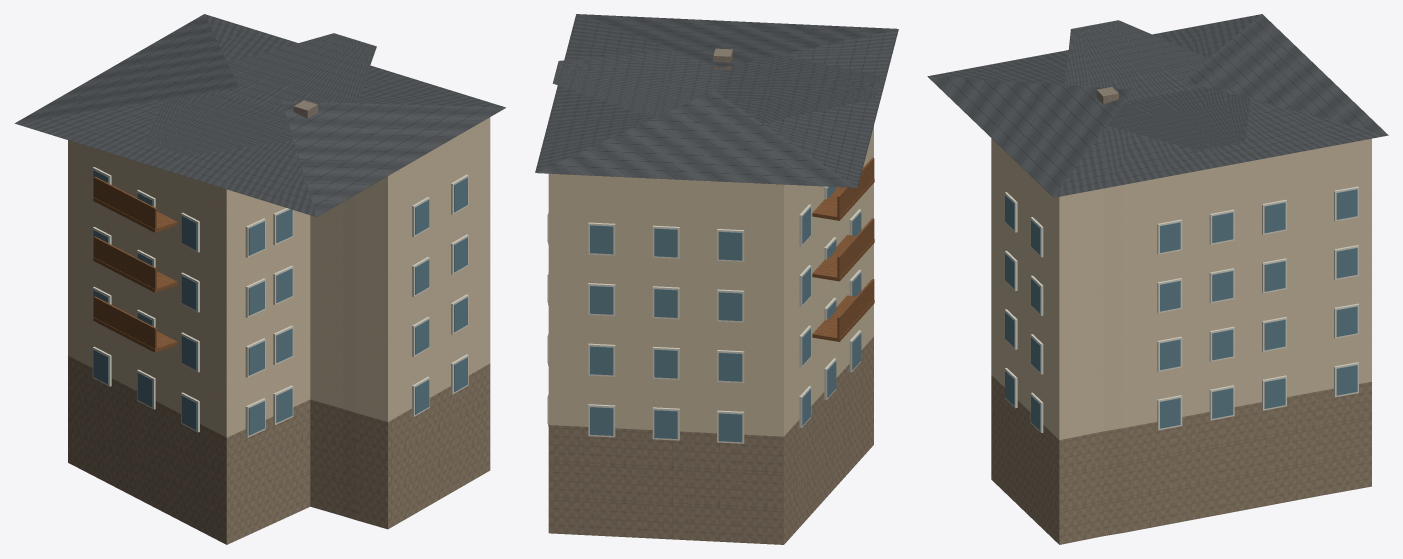
File: core_0114.gltf
The picture shows the model from 3 angles, left to right: view 1: azimuth 30°, elevation 25°; view 2: azimuth 150°, elevation 25°; view 3: azimuth 270°, elevation 25°; orthographic projection. The views are drawn at different scales.
Visible parts, largest first — view 1: core_0114; view 2: core_0114; view 3: core_0114.
Part boxes in pixels (box(x1,y1,x2,y2)): core_0114: box(14, 14, 505, 544); core_0114: box(535, 14, 898, 544); core_0114: box(927, 14, 1388, 544).
Bounding box in the file's own units: 19.18 × 18.35 × 20.36.
Materials: 7 (7 with a texture image).
